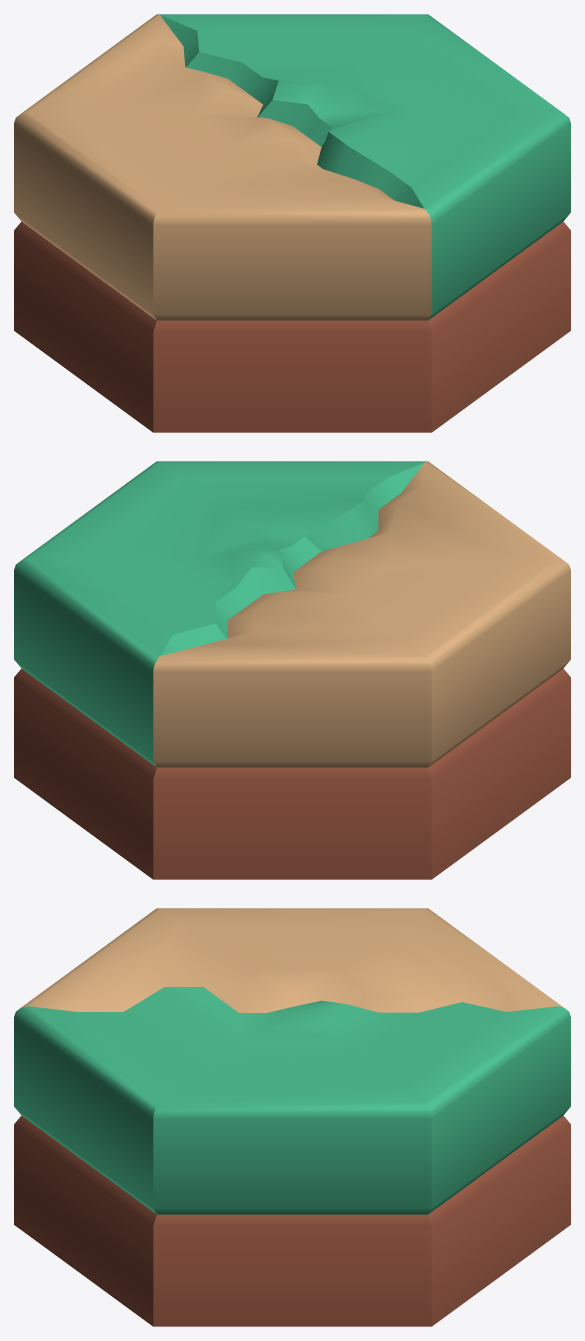
The model's file is hex_sand_transitionA.glb.
3 renders of one model, top to bottom at view 1: azimuth 30°, elevation 25°; view 2: azimuth 150°, elevation 25°; view 3: azimuth 270°, elevation 25°, orthographic.
Visible parts, largest first — view 1: hex_sand_transitionA; view 2: hex_sand_transitionA; view 3: hex_sand_transitionA.
Part boxes in pixels (x1=…): hex_sand_transitionA: x1=14, y1=14, x2=570, y2=432; hex_sand_transitionA: x1=14, y1=461, x2=570, y2=879; hex_sand_transitionA: x1=14, y1=908, x2=570, y2=1326.
Size of the model in its own units: 3.82 by 2.04 by 4.41.
